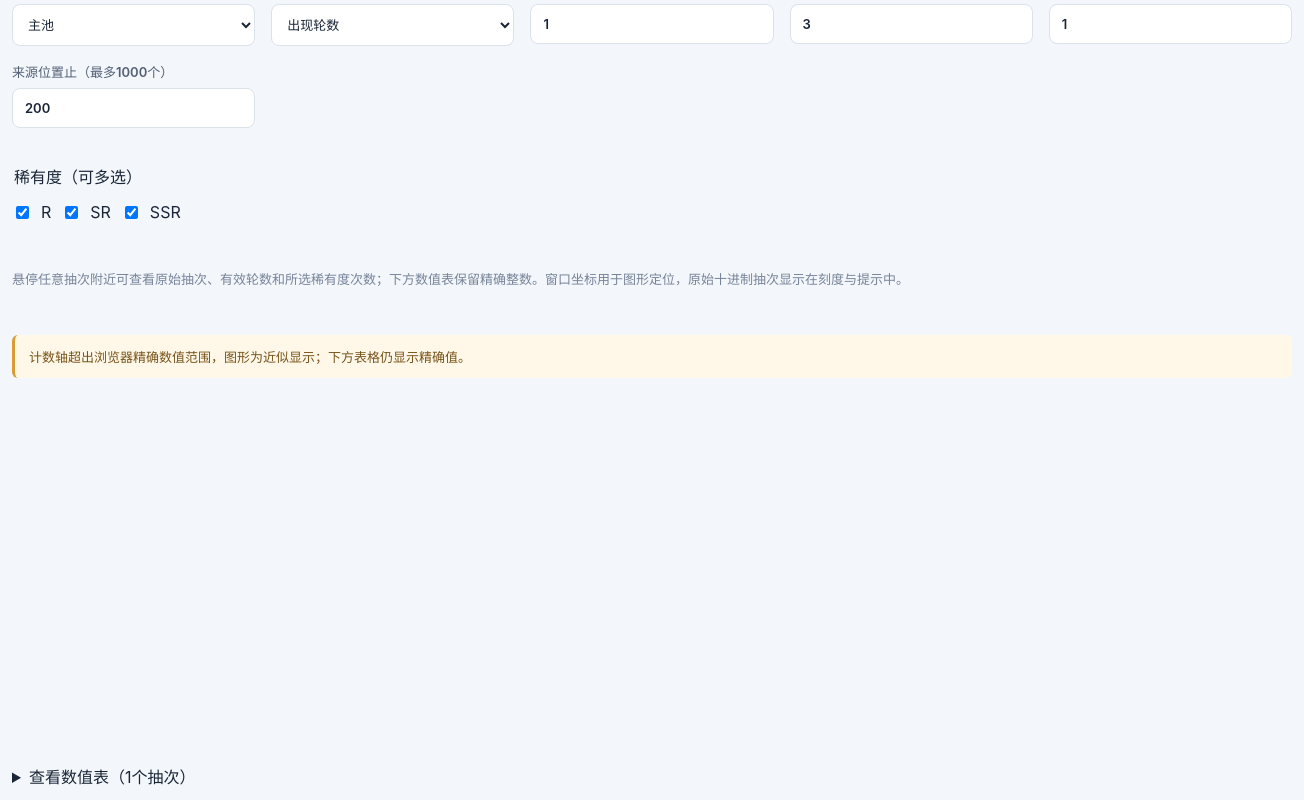
Test case: keeps position and observation counts exact above the safe integer limit
The image size is (1304, 800).
(page scrolled)
Expected: the text "计数轴超出浏览器精确数值范围，图形为近似显示；下方表格仍显示精确值。" is shown, [12, 335, 1292, 378]
Click the heading "查看数值表（1个抽次）".
click(112, 777)  # box [29, 767, 195, 787]
(page scrolled)
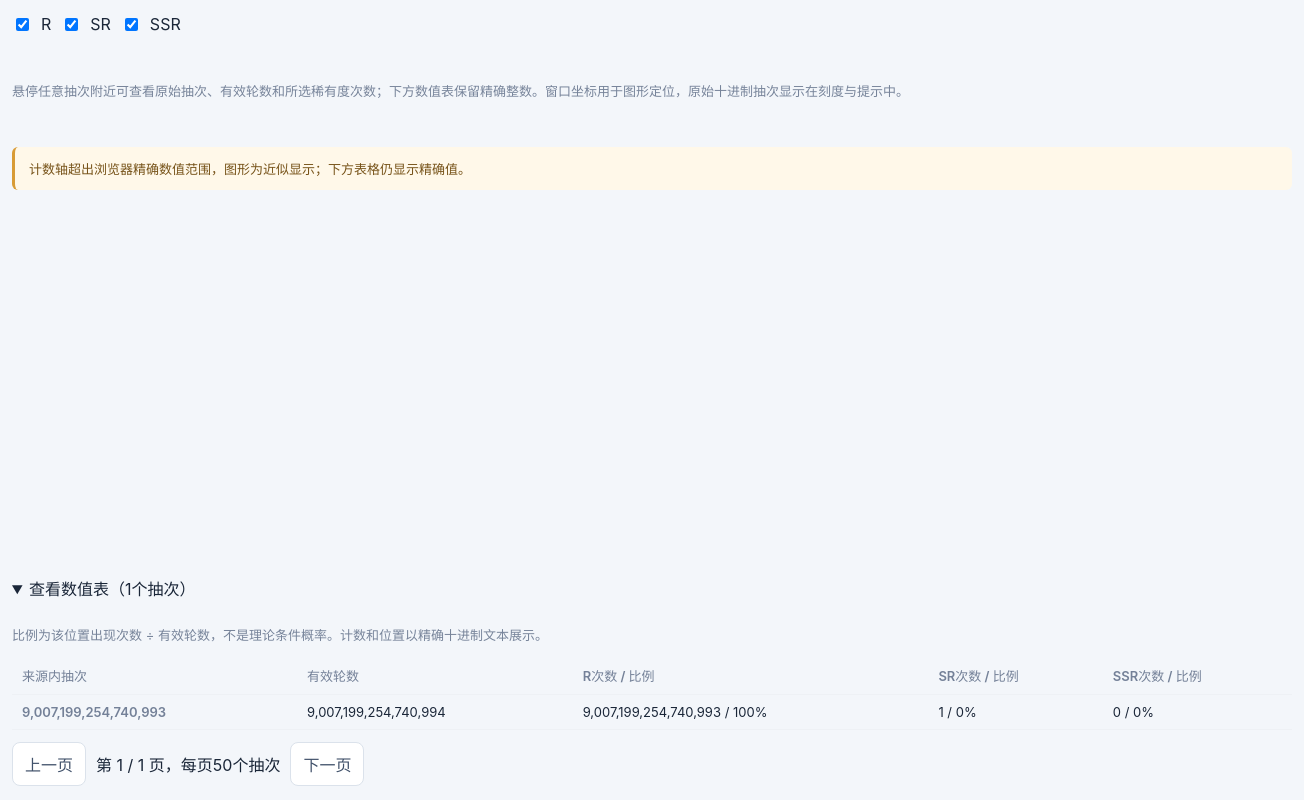
Expected: the column heading "9,007,199,254,740,993" is shown, [12, 695, 297, 730]
Expected: the text "9,007,199,254,740,994" is shown, [297, 695, 573, 730]
